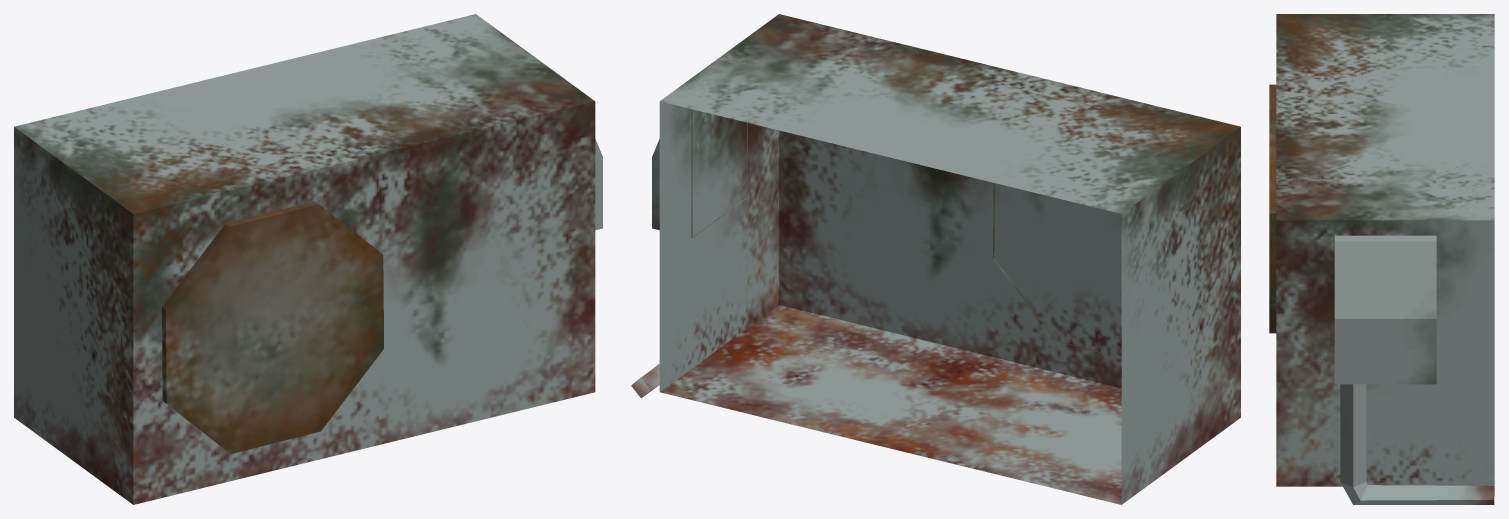
File: ArCondicionado.fbx
3 renders of one model, left to right at view 1: azimuth 30°, elevation 25°; view 2: azimuth 150°, elevation 25°; view 3: azimuth 270°, elevation 25°, orthographic. The views are drawn at different scales.
Parts seen in each view (by area): view 1: ArCondicionado; view 2: ArCondicionado; view 3: ArCondicionado.
Part boxes in pixels (x1=…): ArCondicionado: x1=14, y1=14, x2=602, y2=504; ArCondicionado: x1=631, y1=14, x2=1240, y2=504; ArCondicionado: x1=1269, y1=14, x2=1494, y2=504.
Size of the model in its own units: 188 by 108 by 80.07.
